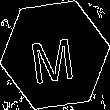M_N: (30, 26, 80, 84)
